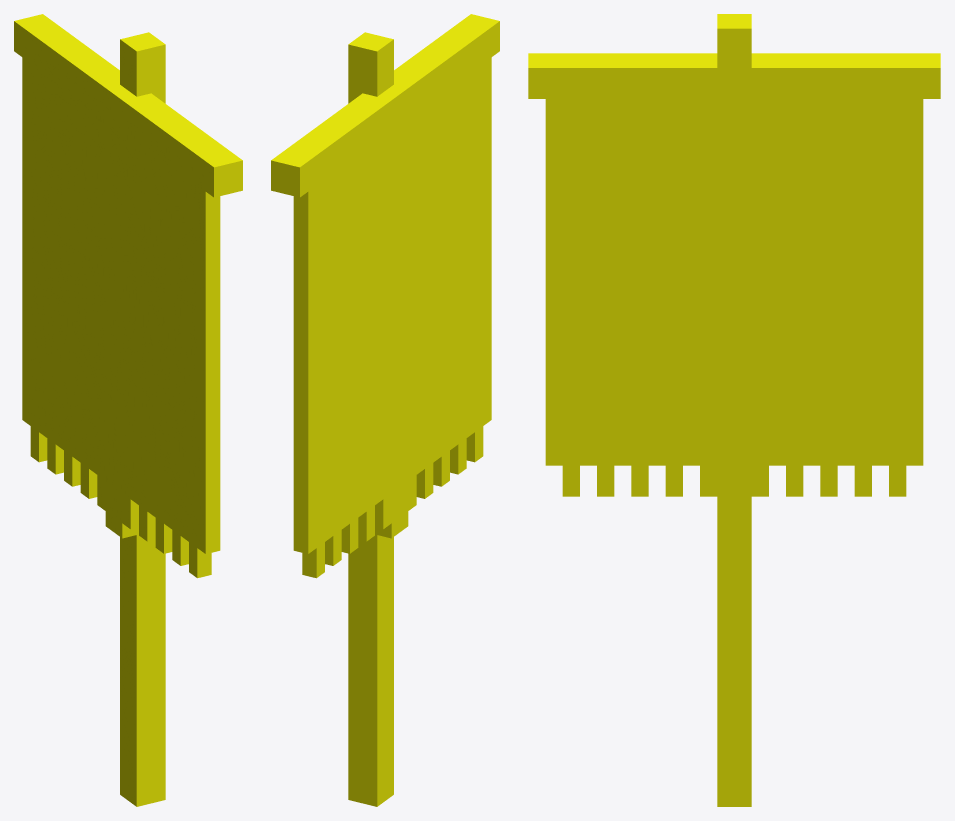
File: voxel-knights-banner.glb
3 renders of one model, left to right at view 1: azimuth 30°, elevation 25°; view 2: azimuth 150°, elevation 25°; view 3: azimuth 270°, elevation 25°, orthographic. The views are drawn at different scales.
Visible parts, largest first — view 1: ObjObject.021; view 2: ObjObject.021; view 3: ObjObject.021.
Boxes of the visible parts, x1,y1,x2,y2 form: ObjObject.021: [14, 14, 242, 806]; ObjObject.021: [271, 14, 499, 806]; ObjObject.021: [528, 14, 940, 806].
Size of the model in its own units: 0.2997 by 5 by 2.4.
